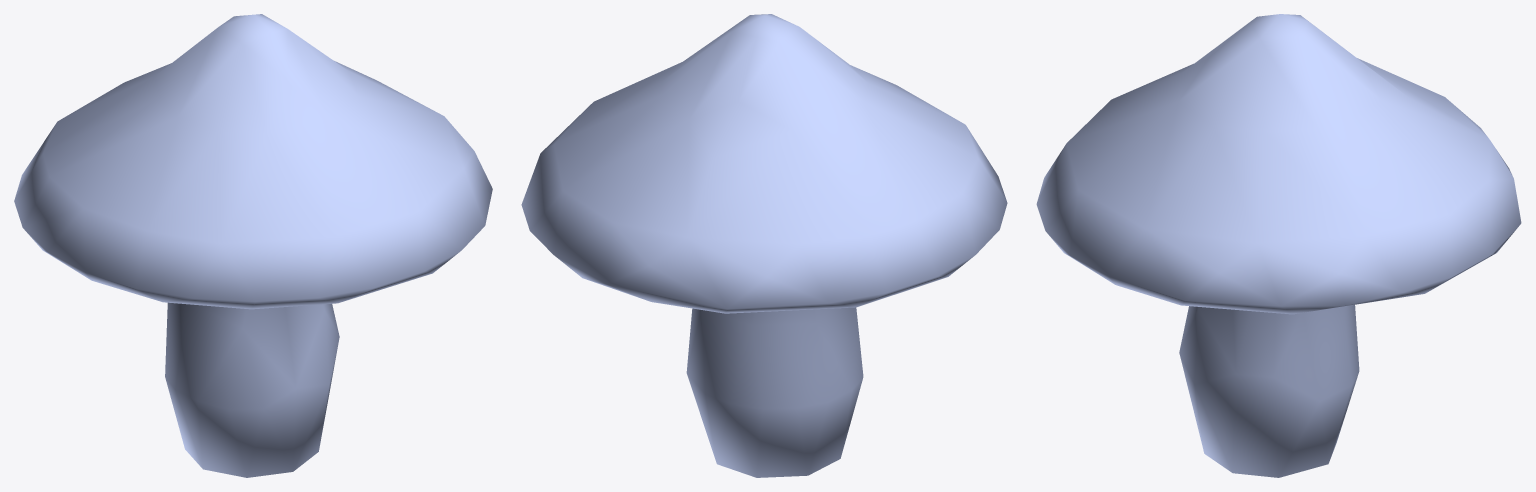
File: small-mushroom-lod1.fbx
3 renders of one model, left to right at view 1: azimuth 30°, elevation 25°; view 2: azimuth 150°, elevation 25°; view 3: azimuth 270°, elevation 25°, orthographic.
Parts seen in each view (by area): view 1: small-mushroom-lod1; view 2: small-mushroom-lod1; view 3: small-mushroom-lod1.
Part boxes in pixels (<box>): small-mushroom-lod1: <box>14,14,492,477</box>; small-mushroom-lod1: <box>521,14,1007,477</box>; small-mushroom-lod1: <box>1036,14,1521,477</box>.
Size of the model in its own units: 0.4788 by 0.4748 by 0.4758.
